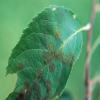Apple Scab Leaf: (3, 2, 85, 99)
